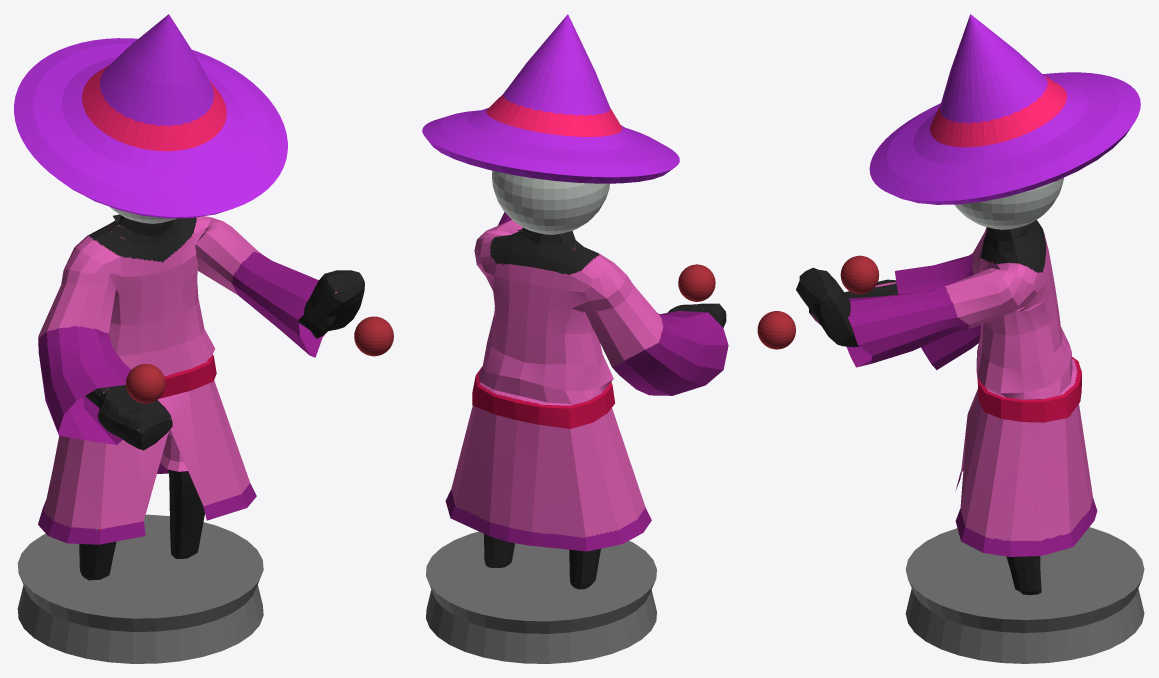
File: LastBoss.obj
The picture shows the model from 3 angles, left to right: view 1: azimuth 30°, elevation 25°; view 2: azimuth 150°, elevation 25°; view 3: azimuth 270°, elevation 25°; orthographic projection. The views are drawn at different scales.
Visible parts, largest first — view 1: Body, 円錐, Cylinder, 球.002, 球.001; view 2: Body, Cylinder, 円錐, 球, 球.001; view 3: Body, 円錐, Cylinder, 球, 球.001, 球.002.
Boxes of the visible parts, x1,y1,x2,y2 form: Body: [38, 214, 364, 580]; 円錐: [14, 14, 287, 218]; Cylinder: [17, 514, 263, 663]; 球.002: [354, 316, 393, 356]; 球.001: [126, 364, 165, 403]; Body: [445, 212, 728, 589]; Cylinder: [426, 531, 656, 663]; 円錐: [422, 14, 679, 183]; 球: [492, 170, 609, 234]; 球.001: [678, 264, 715, 301]; Body: [796, 220, 1097, 594]; 円錐: [869, 14, 1140, 204]; Cylinder: [905, 527, 1144, 663]; 球: [954, 177, 1063, 229]; 球.001: [840, 255, 879, 294]; 球.002: [757, 311, 795, 349].
Size of the model in its own units: 1.57 by 3.55 by 2.07.
6 materials, 6 textured.
